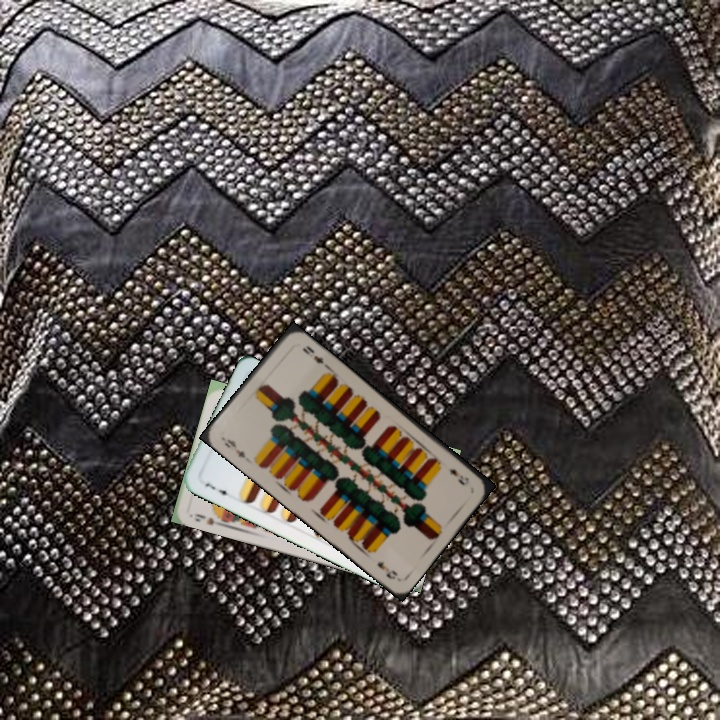E7: (201, 479, 233, 500)
E9: (218, 433, 248, 461), (445, 464, 471, 488)
S9: (187, 509, 228, 529)
